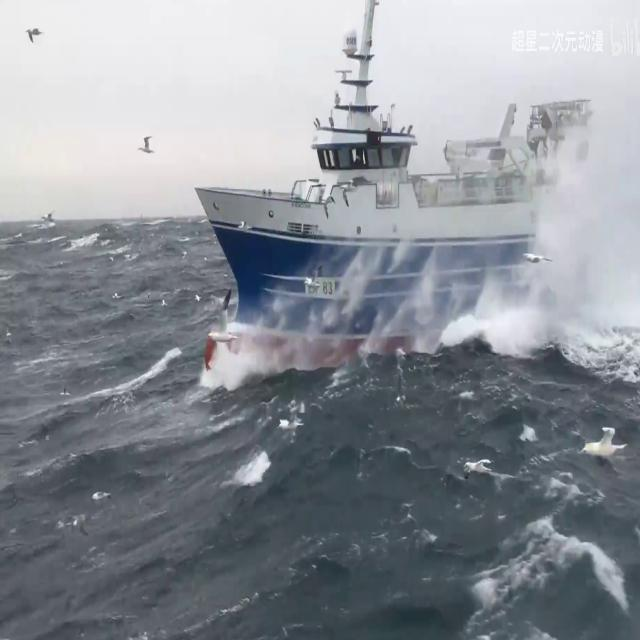houseboat: (188, 0, 596, 405)
